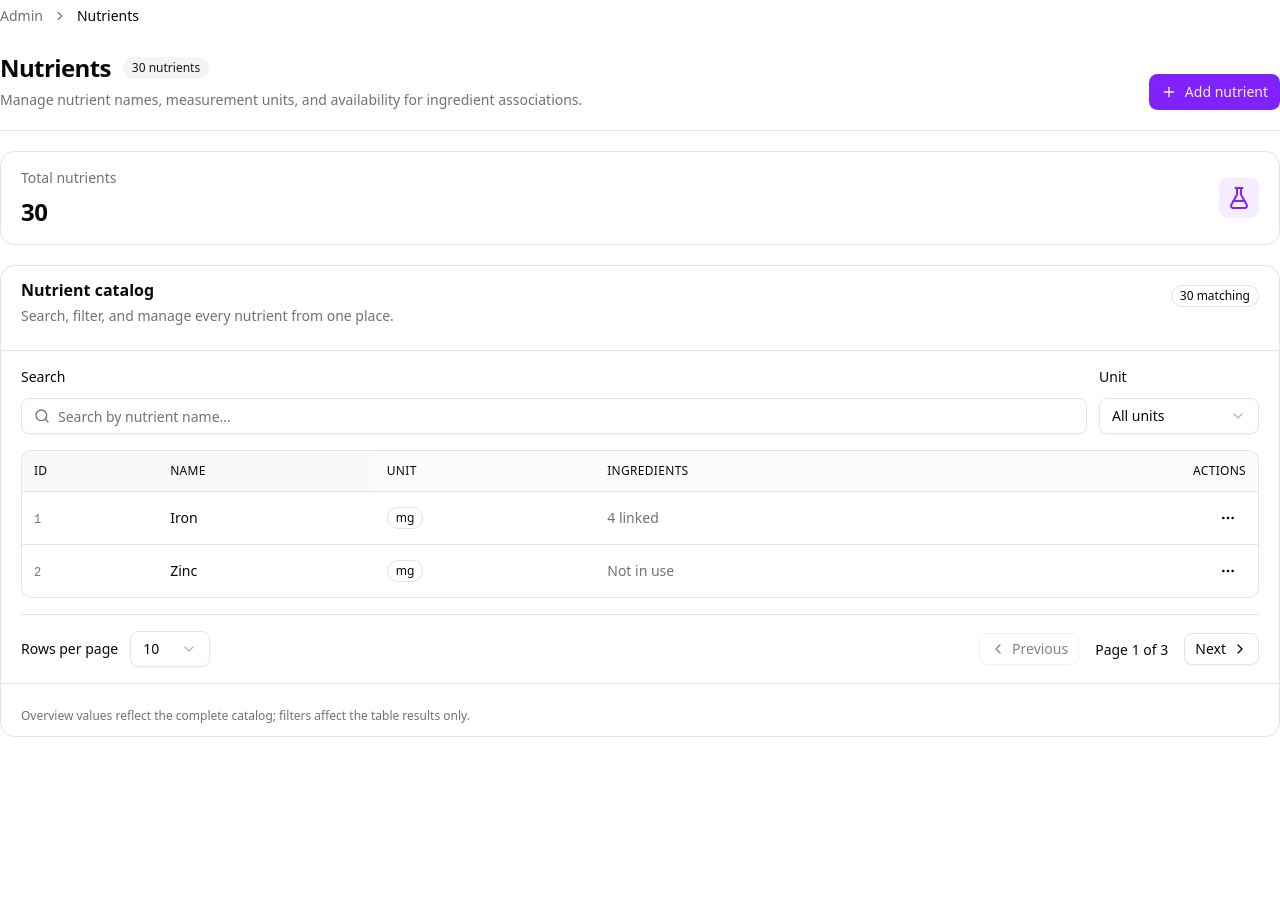
Test: NutrientsPage › creates a nutrient through the form and closes only after success
Click the button "Add nutrient".
click(1214, 92)  # box 1149,74 -> 1279,110
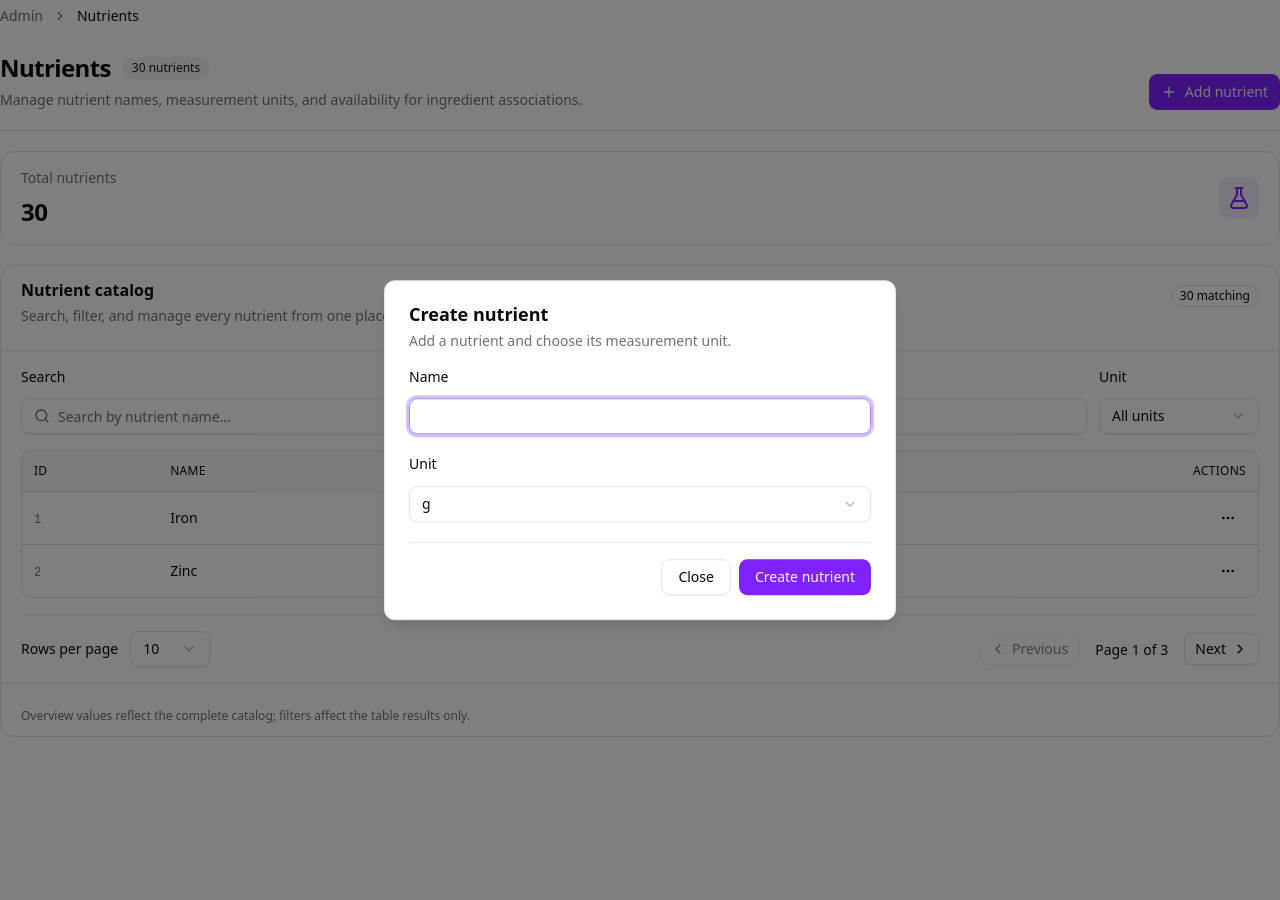
Type "Calcium" into the field labelled "Name".
click(640, 416); type("Calcium")  # box 409,398 -> 871,434
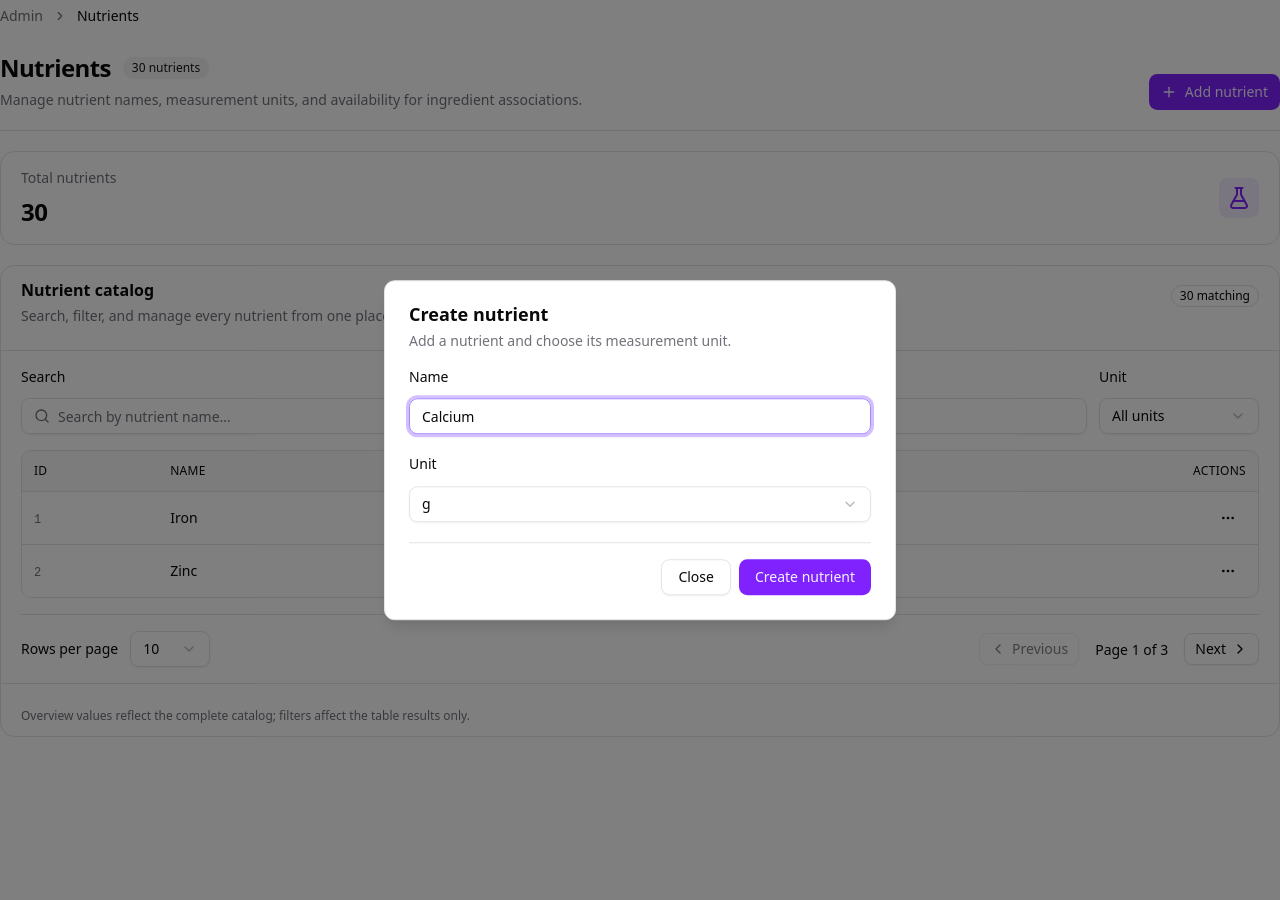
Click the button "Create nutrient".
click(805, 577)  # box 739,559 -> 871,595
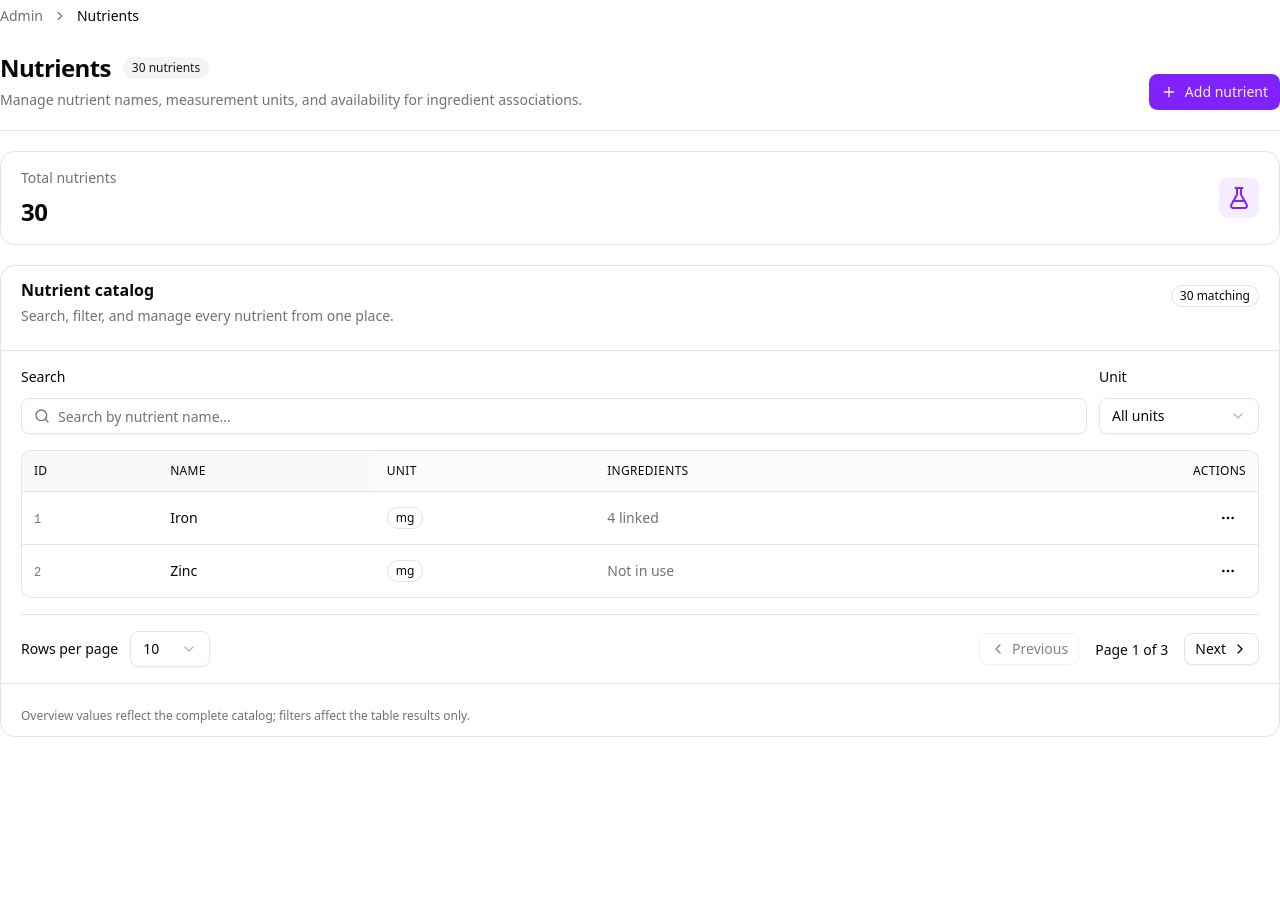
Result: the dialog is gone
